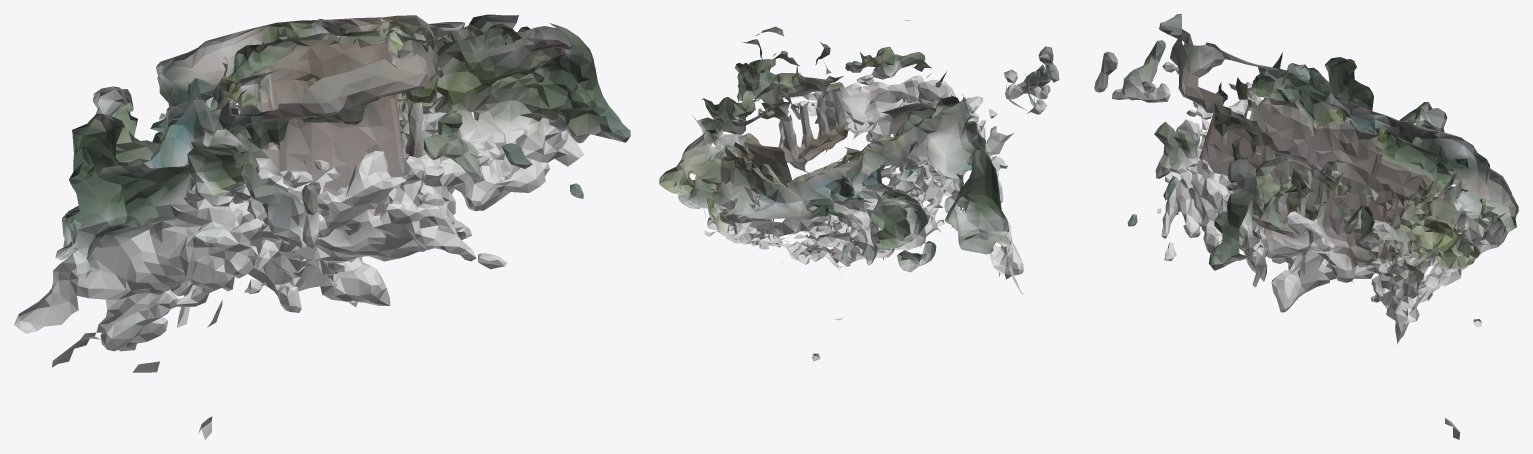
Rendered from south_building.glb.
3 renders of one model, left to right at view 1: azimuth 30°, elevation 25°; view 2: azimuth 150°, elevation 25°; view 3: azimuth 270°, elevation 25°, orthographic. The views are drawn at different scales.
Parts seen in each view (by area): view 1: world; view 2: world; view 3: world.
Part boxes in pixels (x1=…): world: x1=14, y1=14, x2=630, y2=439; world: x1=659, y1=20, x2=1059, y2=361; world: x1=1094, y1=14, x2=1518, y2=439.
Size of the model in its own units: 1.75 by 1.62 by 1.63.
